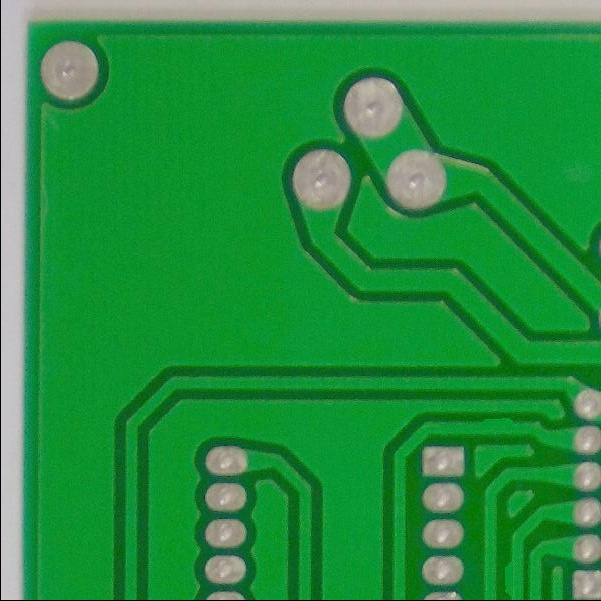spur: (478, 409, 519, 441), (499, 551, 524, 599)
